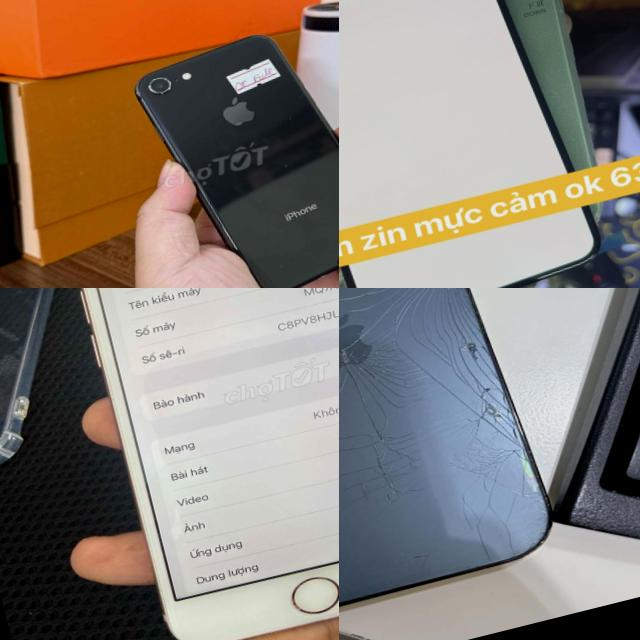physical_damage: (438, 315, 534, 495), (339, 305, 422, 427), (339, 472, 426, 578), (339, 397, 426, 499), (444, 487, 542, 558), (339, 288, 460, 325)
scratch: (139, 68, 180, 100)
